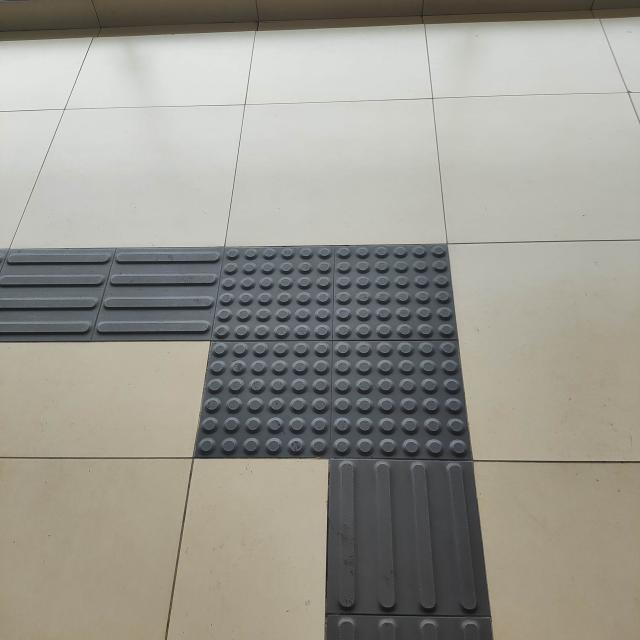kiri: (2, 181, 568, 514)
